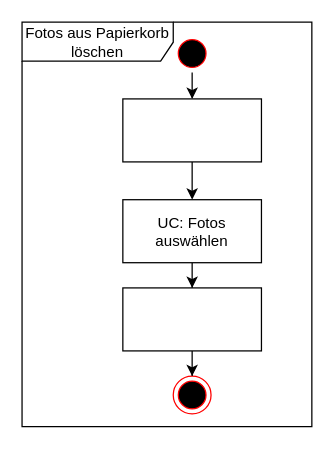
This 334x449 diagram has some shape labels left out. Here are the shapes that lost their labels. From the top down, the centre of each, then its label:
At point (191, 130): "UC: Papierkorb öffnen".
At point (191, 319): "Fotos endgültig löschen".
